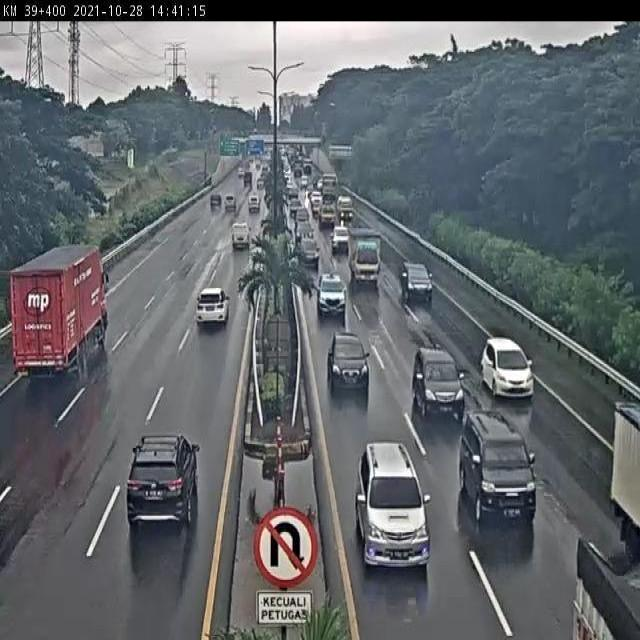car: (355, 442, 431, 566), (457, 411, 537, 521), (124, 432, 199, 529), (412, 346, 465, 418), (481, 337, 536, 399), (326, 332, 369, 392), (401, 262, 434, 302), (318, 272, 347, 317), (197, 287, 229, 324), (299, 238, 319, 266), (232, 221, 250, 247)
mid truck: (8, 245, 108, 372)
truck-m-: (349, 228, 381, 283)
